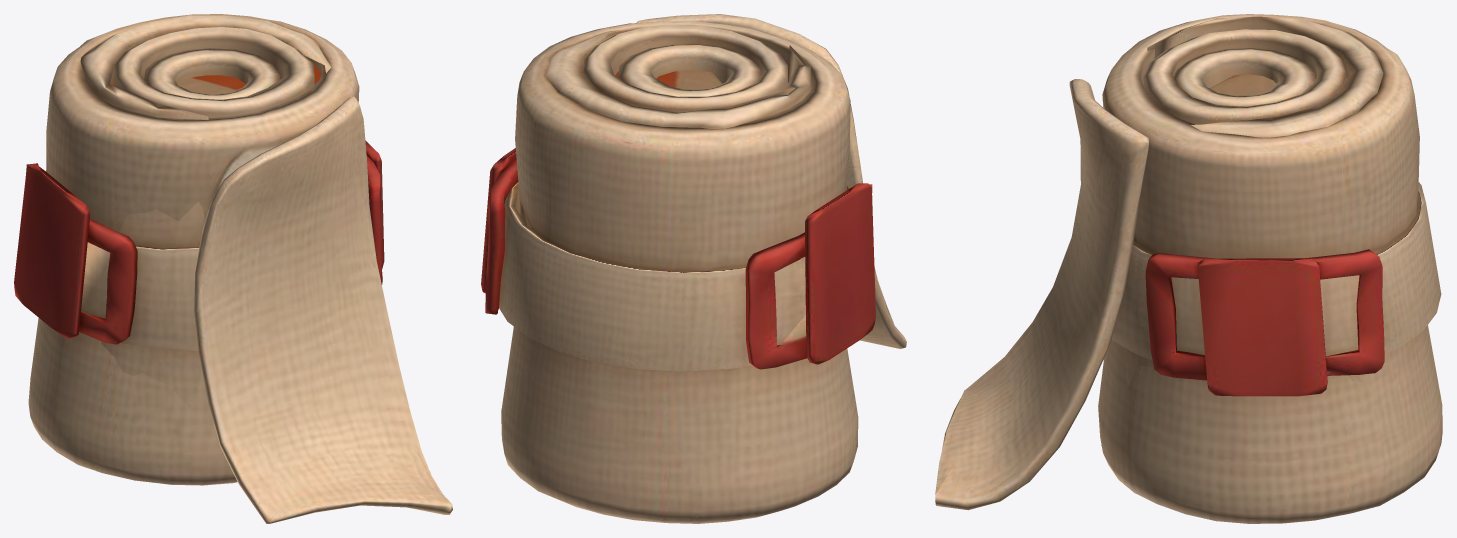
File: bandage.glb
3 views of the same model, side by side, from view 1: azimuth 30°, elevation 25°; view 2: azimuth 150°, elevation 25°; view 3: azimuth 270°, elevation 25° (orthographic). The views are drawn at different scales.
Parts seen in each view (by area): view 1: bandage; view 2: bandage; view 3: bandage.
Part boxes in pixels (bbox=[...]): bandage: bbox=[14, 14, 452, 523]; bandage: bbox=[481, 14, 906, 523]; bandage: bbox=[935, 14, 1442, 523].
Bounding box in the file's own units: 0.0697 × 0.0797 × 0.09.
Materials: 1 (1 with a texture image).
